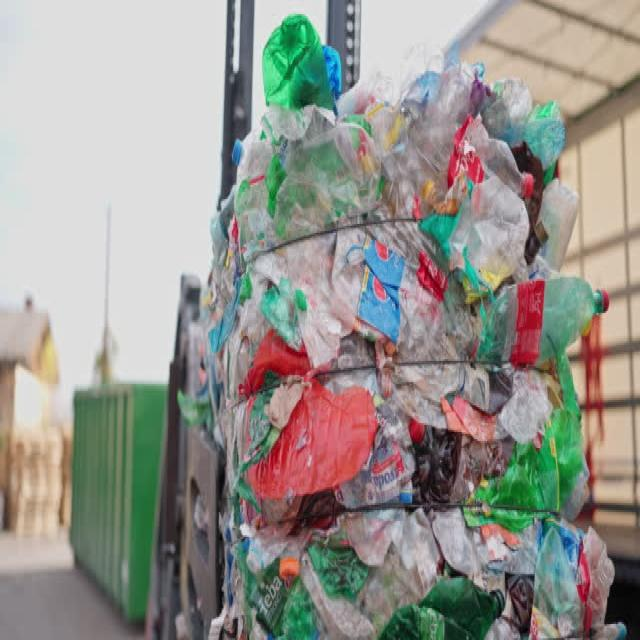plastic: (231, 2, 584, 620)
